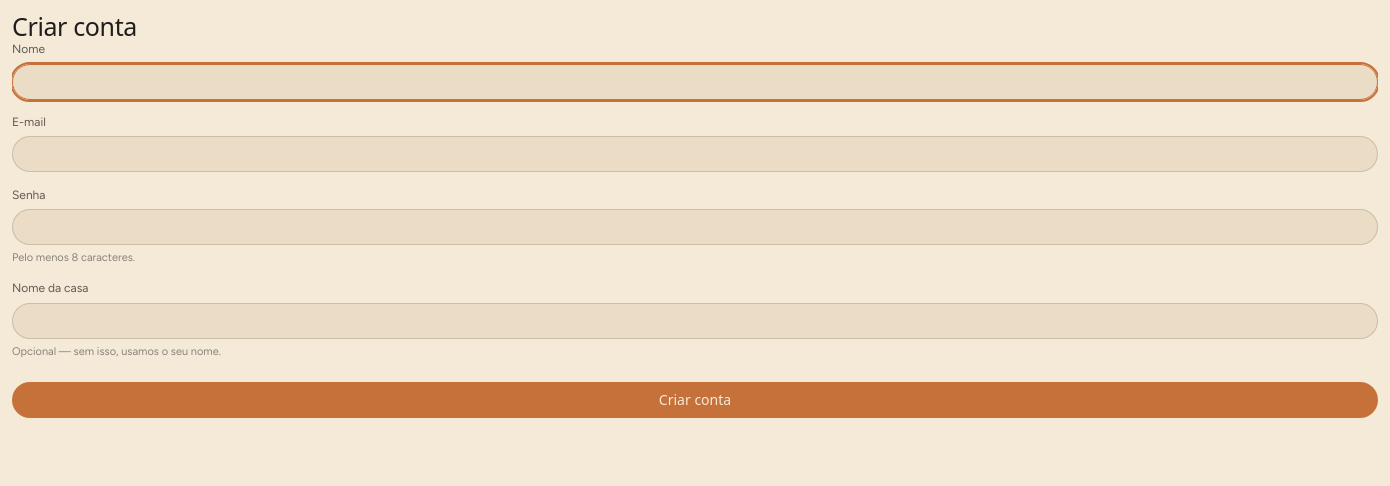
Test case: cadastro › mostra o status quando o erro não vem da nossa API
The width and height of the screenshot is (1390, 486).
In the field labelled "Nome": point(695, 82) 12,64 -> 1378,100, type "Ana"
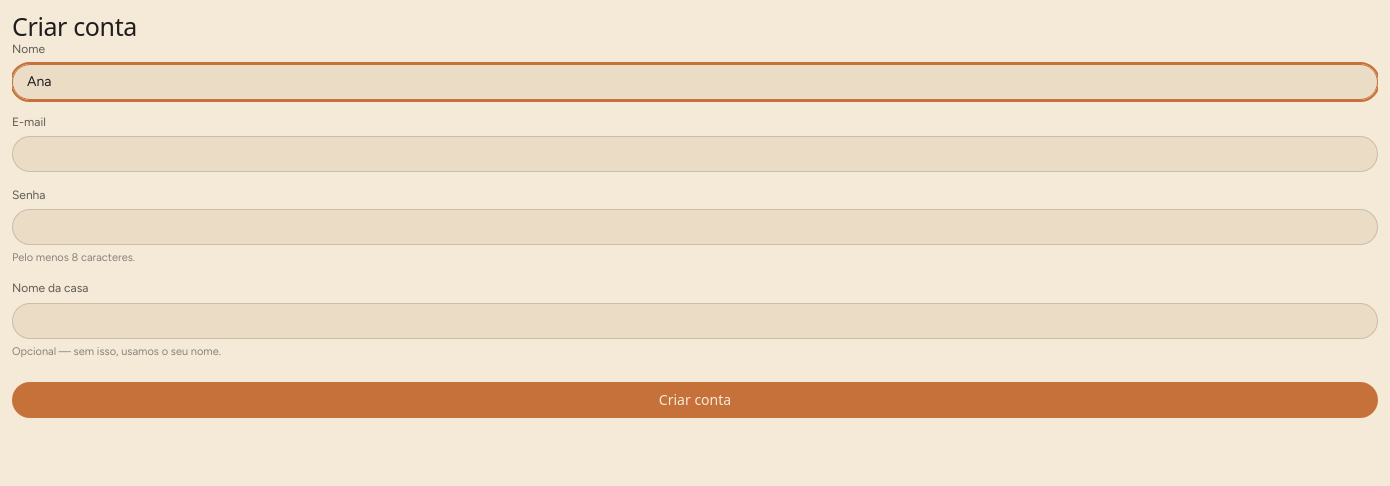
In the field labelled "E-mail": point(695, 154) 12,136 -> 1378,172, type "ana@raiz.app"
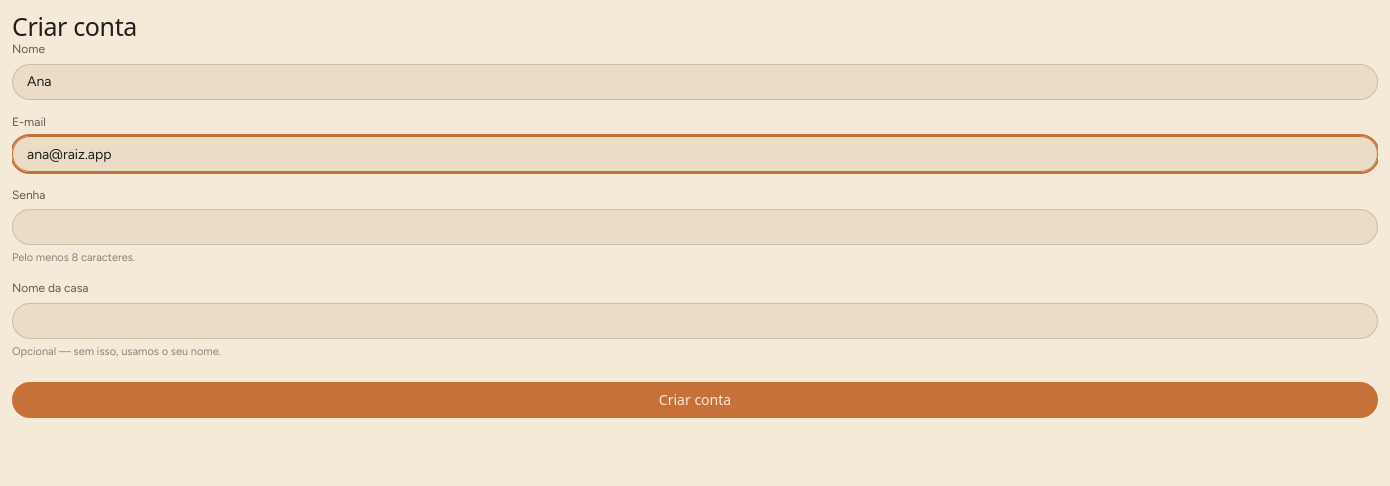
In the password field labelled "Senha": point(695, 227) 12,209 -> 1378,245, type "raiz1234"
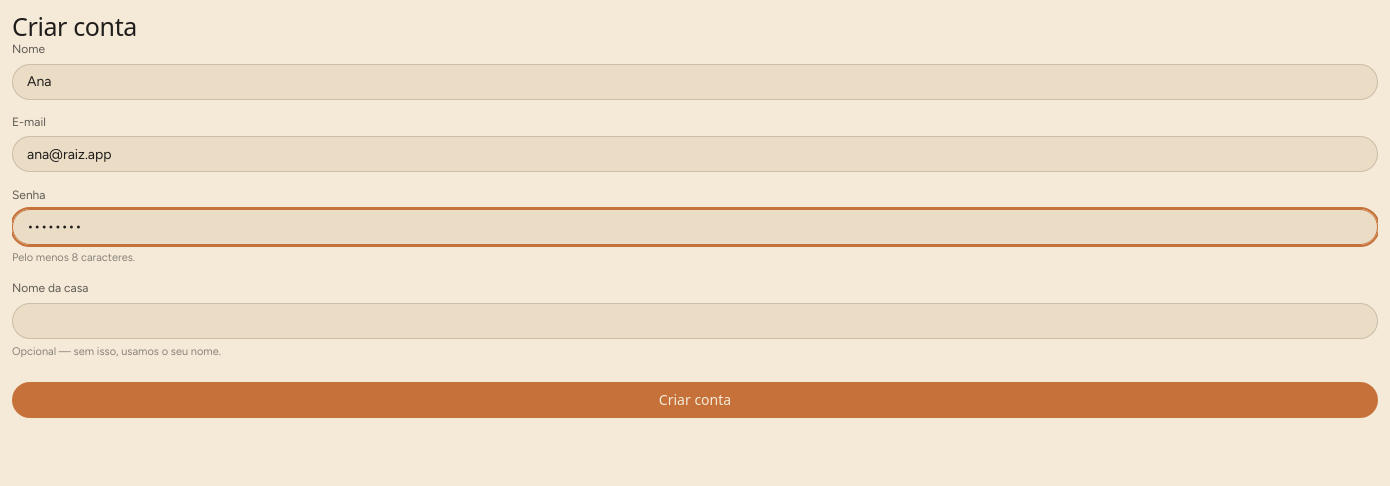
Click the button "Criar conta": point(695, 400) 12,382 -> 1378,418
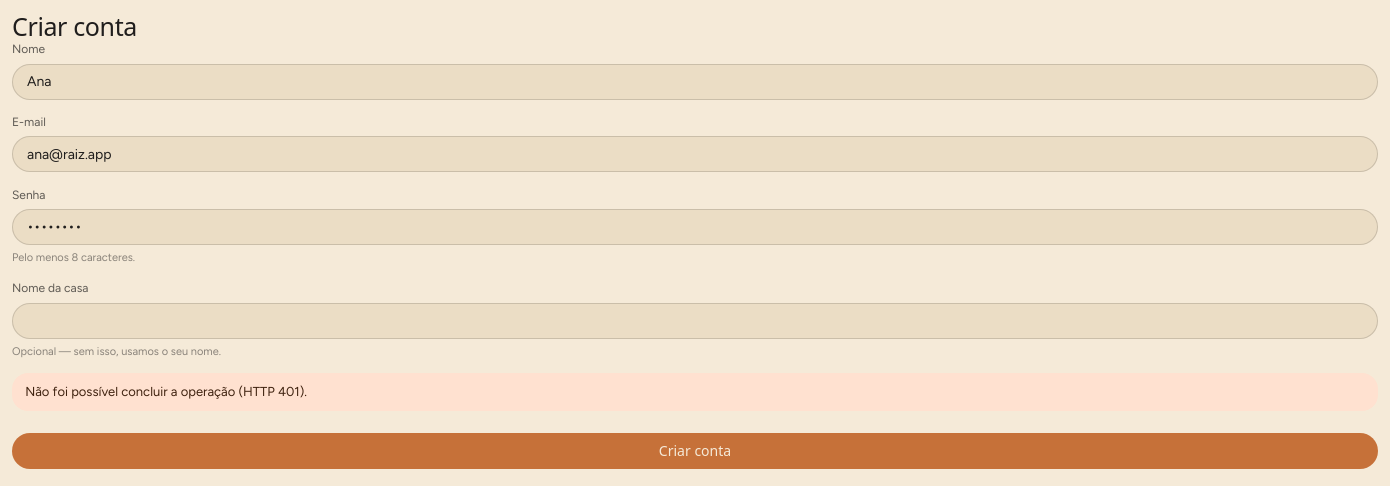
expect the message shows "HTTP 401": met, box 25,384 -> 307,399
